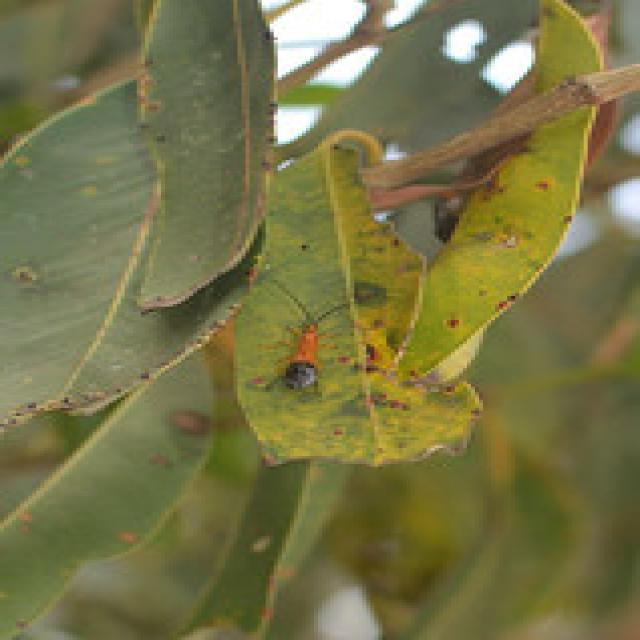Guepe: (268, 283, 358, 398)
